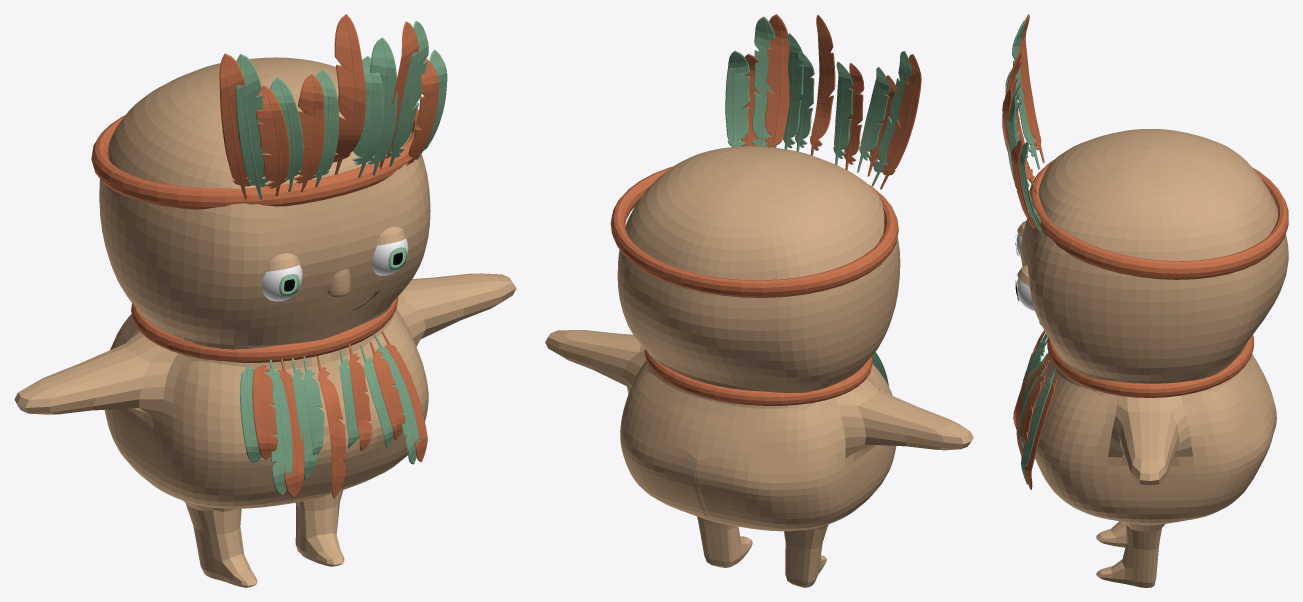
The model's file is karaktercute2.fbx.
3 renders of one model, left to right at view 1: azimuth 30°, elevation 25°; view 2: azimuth 150°, elevation 25°; view 3: azimuth 270°, elevation 25°, orthographic. The views are drawn at different scales.
Visible parts, largest first — view 1: Sphere.003, Torus.012, Torus.010; view 2: Sphere.003, Torus.012, Torus.010; view 3: Sphere.003, Torus.012, Torus.010.
Boxes of the visible parts, <box> form: Sphere.003: <box>14,57,516,587</box>; Torus.012: <box>91,14,447,209</box>; Torus.010: <box>131,296,427,498</box>; Sphere.003: <box>545,146,973,587</box>; Torus.012: <box>610,14,921,297</box>; Torus.010: <box>644,349,888,405</box>; Sphere.003: <box>1015,129,1288,587</box>; Torus.012: <box>1002,14,1288,279</box>; Torus.010: <box>1013,330,1253,489</box>.
Bounding box in the file's own units: 1018 × 592 × 1180.
